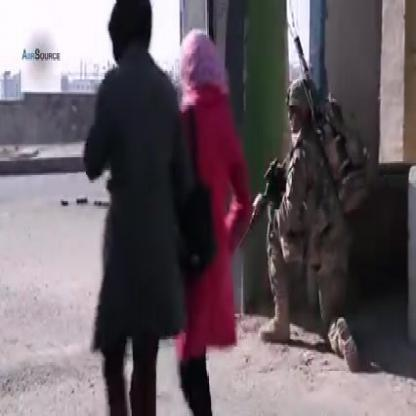Gun: (226, 133, 301, 266)
